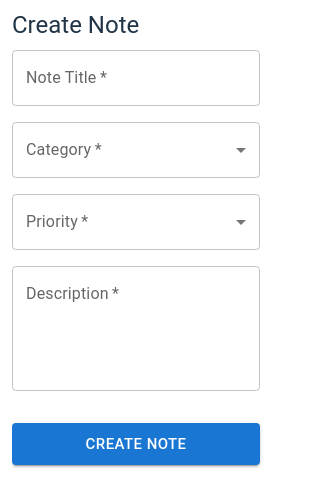
Test: NoteForm › displays all category options
Press the mouse on the dropdown next to "Category" at (136, 150), box [12,122,260,178]
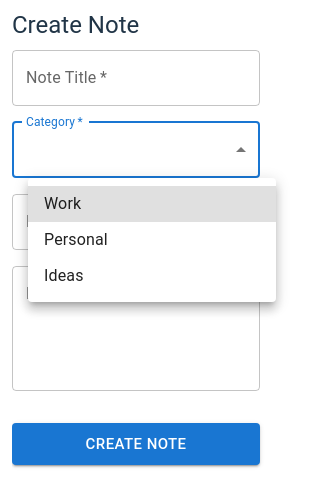
Check: the option "Work" is shown, box [28,186,276,222]
Check: the option "Personal" is shown, box [44,230,108,249]
Check: the option "Ideas" is shown, box [44,266,84,285]
